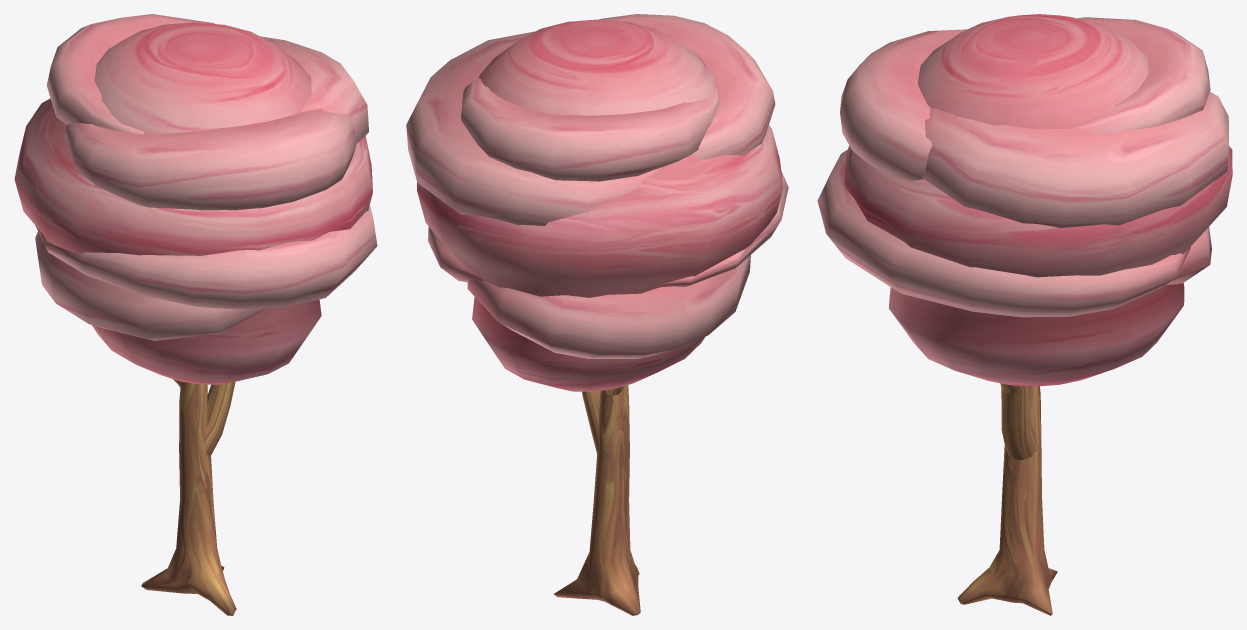
Rendered from SE_CottonCandyTree_02.fbx.
3 views of the same model, side by side, from view 1: azimuth 30°, elevation 25°; view 2: azimuth 150°, elevation 25°; view 3: azimuth 270°, elevation 25° (orthographic). The views are drawn at different scales.
Parts seen in each view (by area): view 1: SE_CottonCandyTree_02; view 2: SE_CottonCandyTree_02; view 3: SE_CottonCandyTree_02.
Part boxes in pixels (<box>): SE_CottonCandyTree_02: <box>14,14,377,615</box>; SE_CottonCandyTree_02: <box>406,14,788,615</box>; SE_CottonCandyTree_02: <box>817,14,1232,615</box>.
Bounding box in the file's own units: 4.51 × 7.53 × 4.99.
